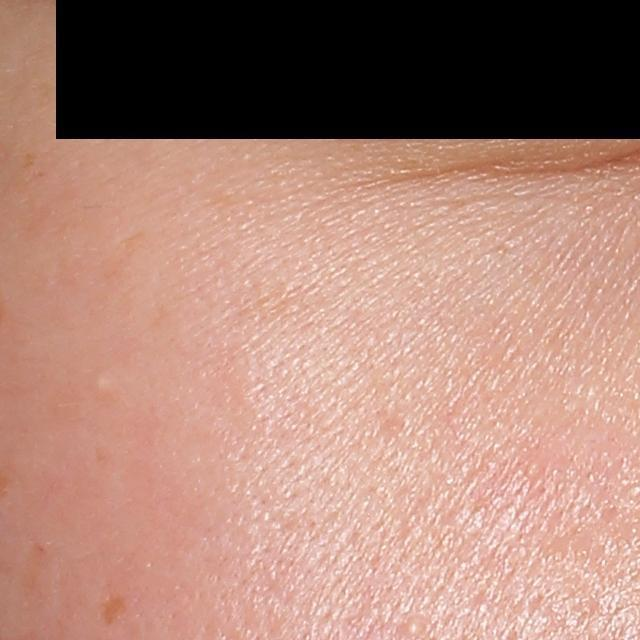comedo: (89, 371, 120, 400), (399, 613, 427, 637)
melasma: (100, 594, 130, 627), (22, 148, 40, 170)
